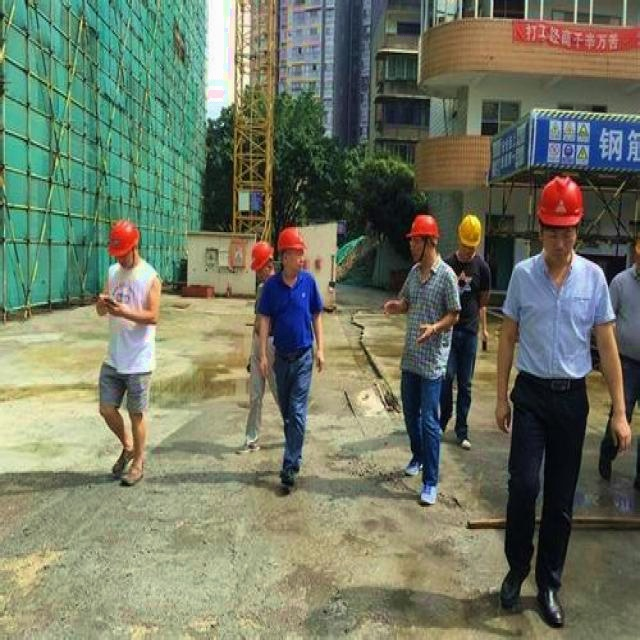Sin_Chaleco: (502, 256, 617, 391)
